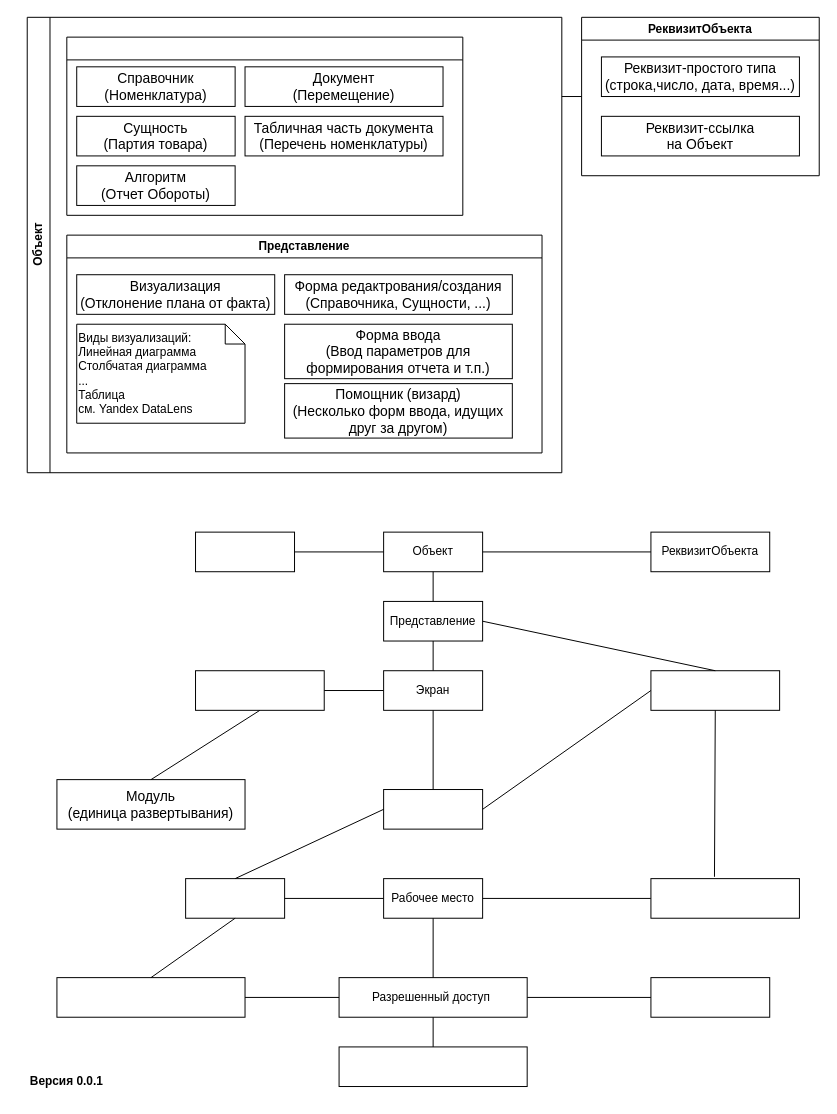
Some shapes in this 837 by 1114 pixel diagram are drawn without their labels. Each missing label, with the box of its shape:
ВидОбъекта: (195, 531, 295, 572)
Главное меню: (185, 878, 285, 918)
Источник данных: (195, 670, 324, 710)
Маска подсети Адрес сети: (338, 1046, 527, 1087)
Пользователь: (650, 977, 770, 1017)
Права рабочего места: (650, 878, 799, 918)
Право: (650, 670, 780, 710)
Предметная область: (66, 36, 463, 215)
Производственная площадка: (56, 977, 245, 1017)
Страница: (383, 789, 483, 829)
